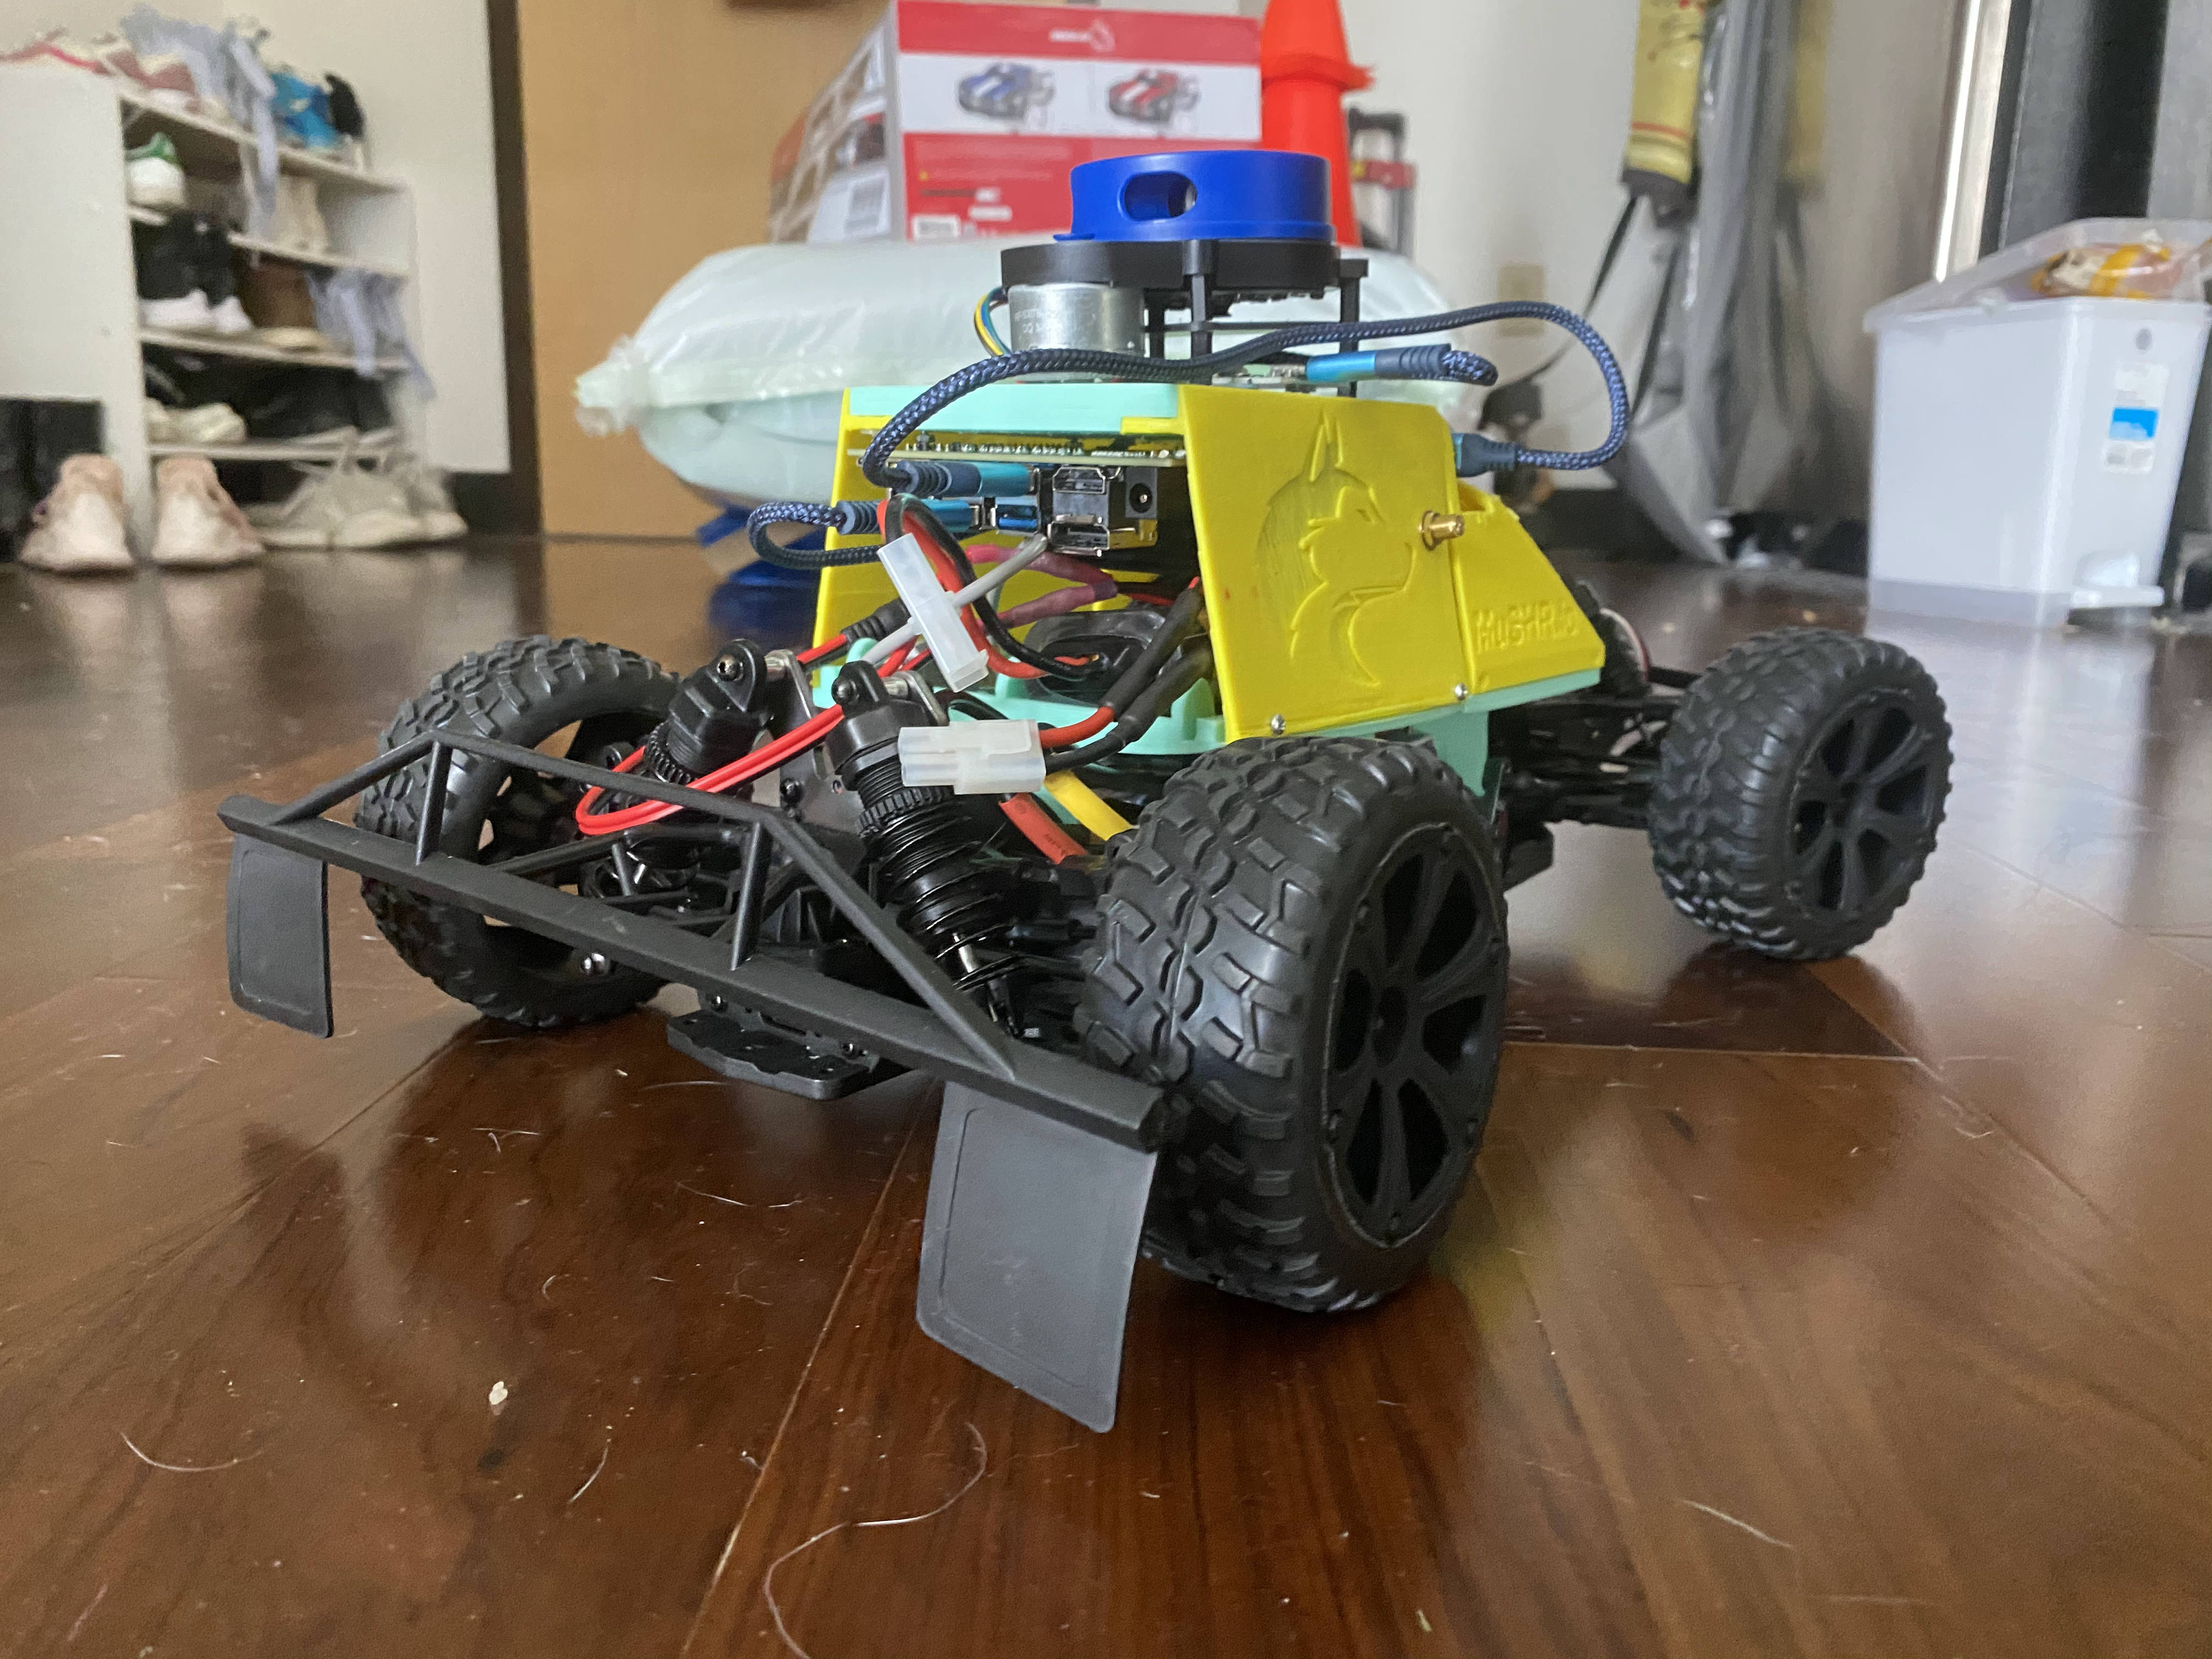mushr_car: (186, 132, 1965, 1446)
